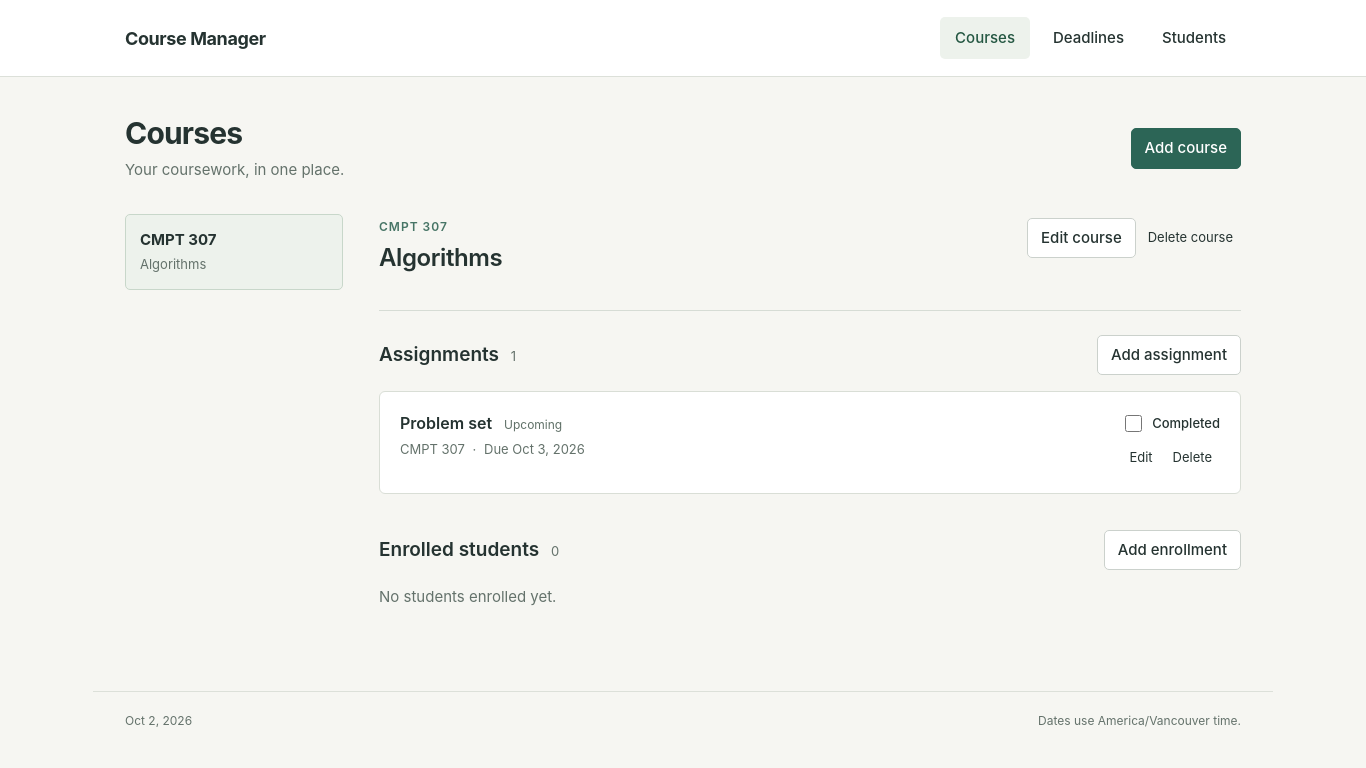
Test: course workspace › explains related deletions and allows cancellation
Expected: the heading "Algorithms" is shown, [379,242,502,274]
Click the button "Delete course". click: click(1190, 238)
box: [1140,223,1241,252]
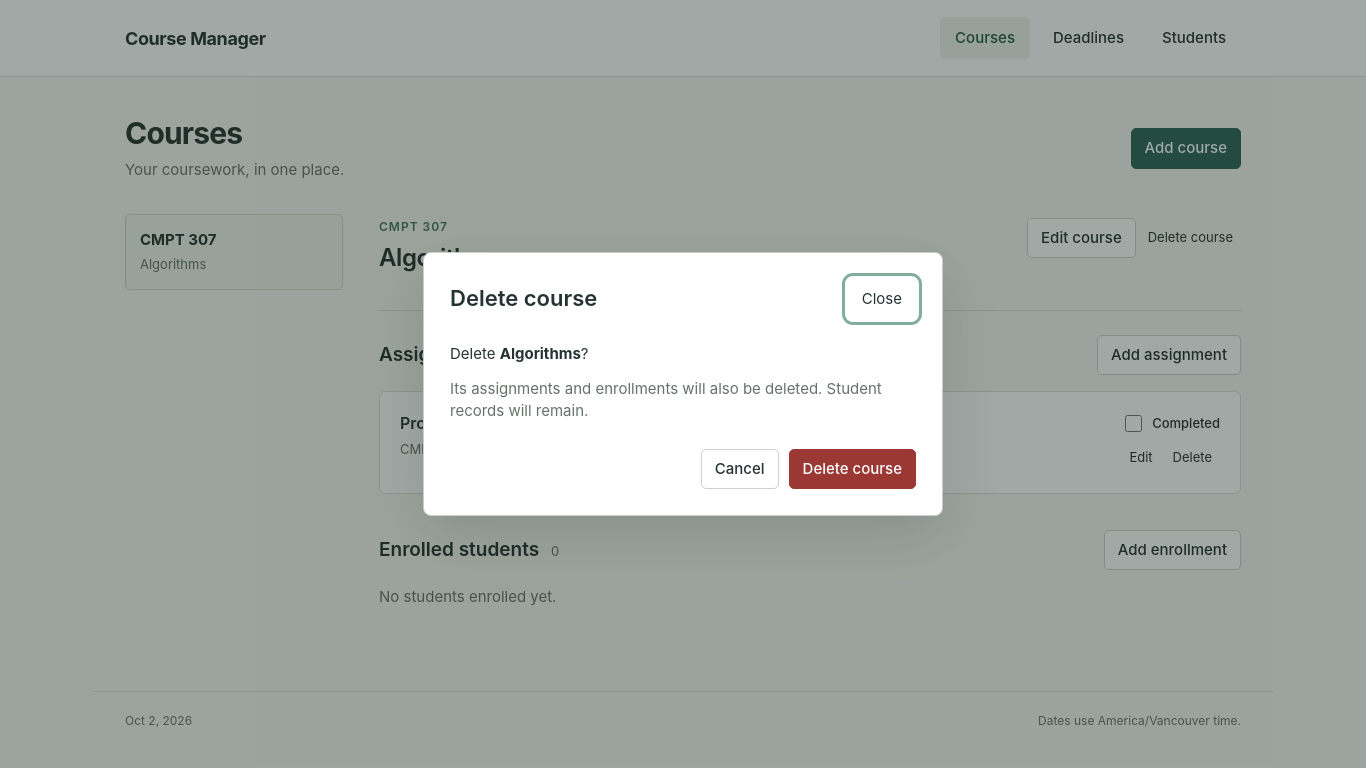
Now the dialog "Delete course" shows "assignments and enrollments will also be deleted", box [450,379,882,420]
Click the button "Cancel". click: click(740, 469)
box: [701,449,779,489]
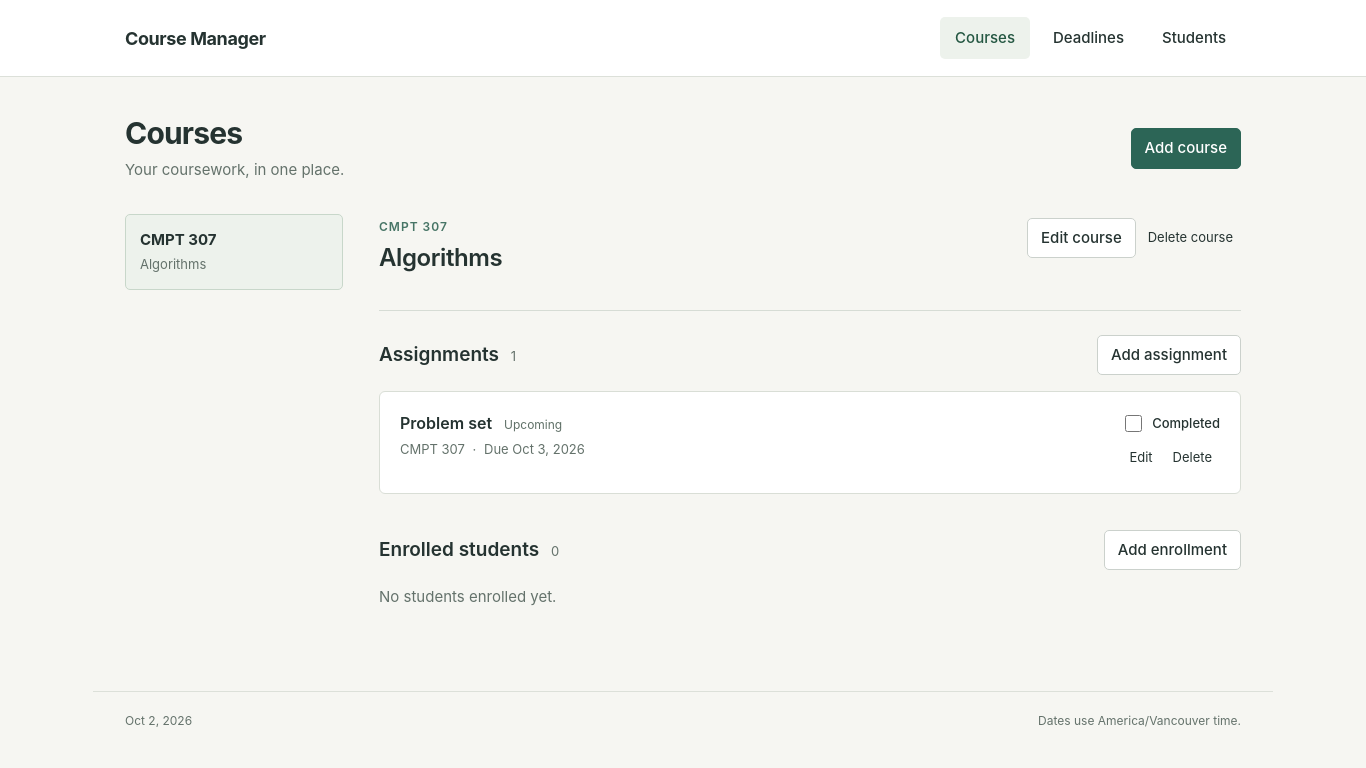
Now the dialog is gone
